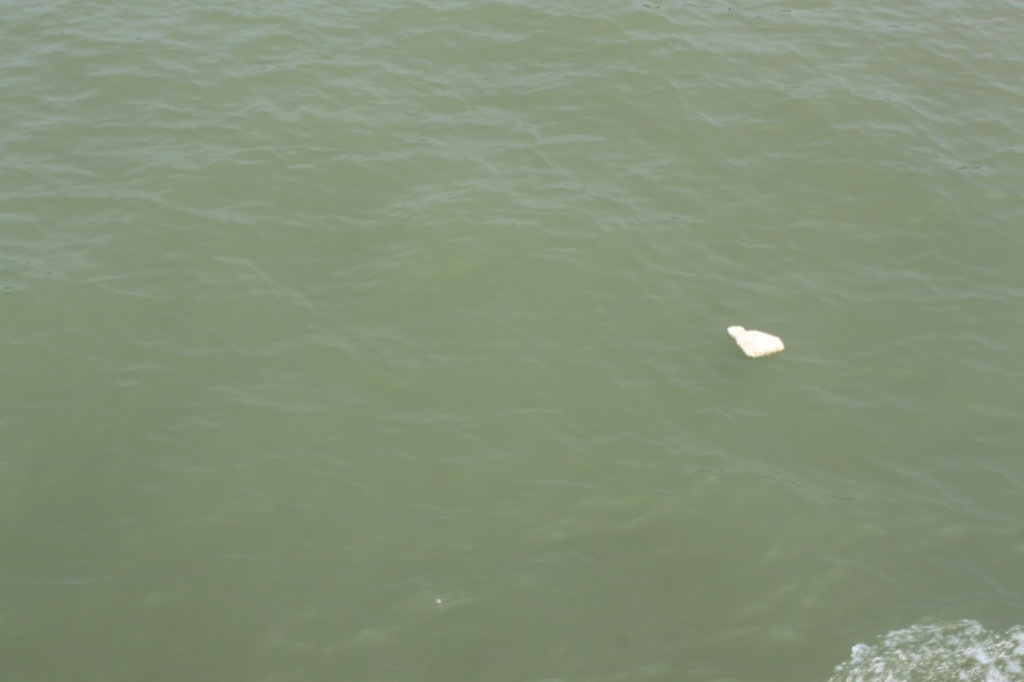plastic: (722, 315, 792, 365), (430, 595, 446, 608)
